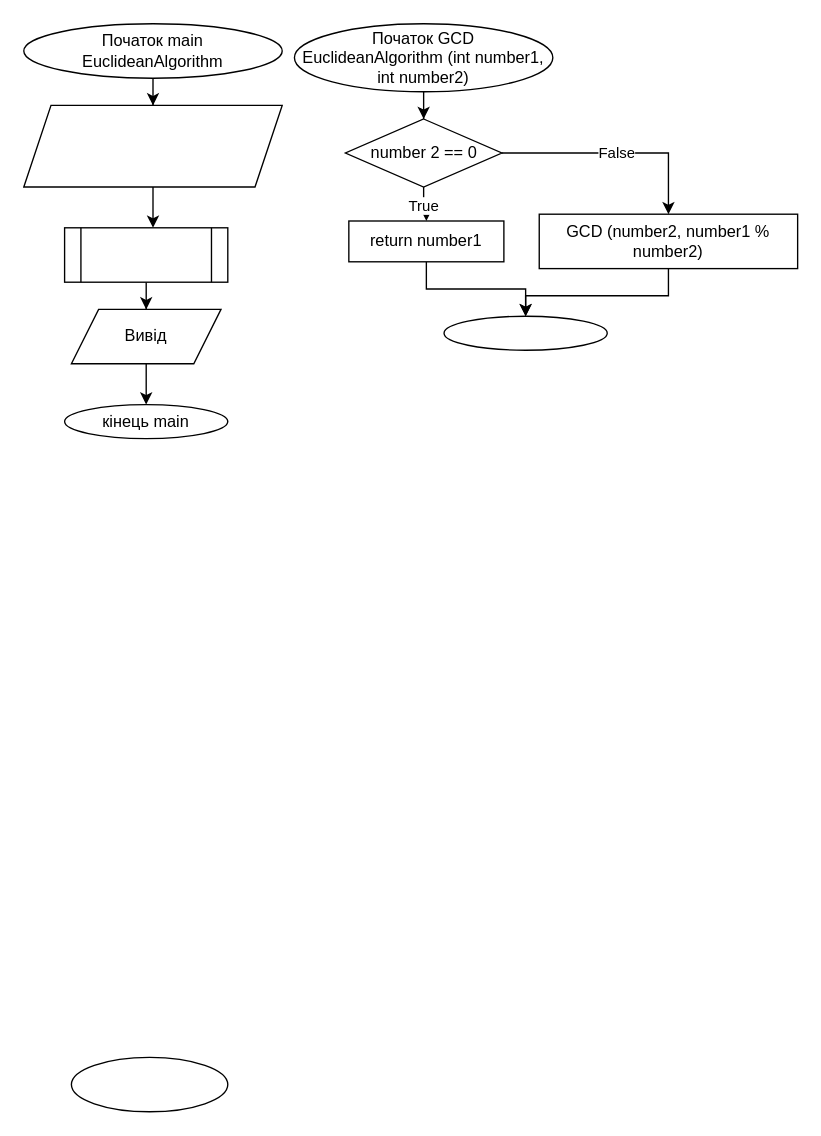
This 821x1136 diagram has some shape labels left out. Each missing label, with the box of its shape:
GCD(number1, number2): (63, 226, 228, 282)
Ввід number1 & number 2 (number1 < number 2 за допомогою функції inputInt: (22, 104, 282, 187)
кінець функції: (443, 315, 607, 350)
кінець функції main: (70, 1056, 228, 1112)
